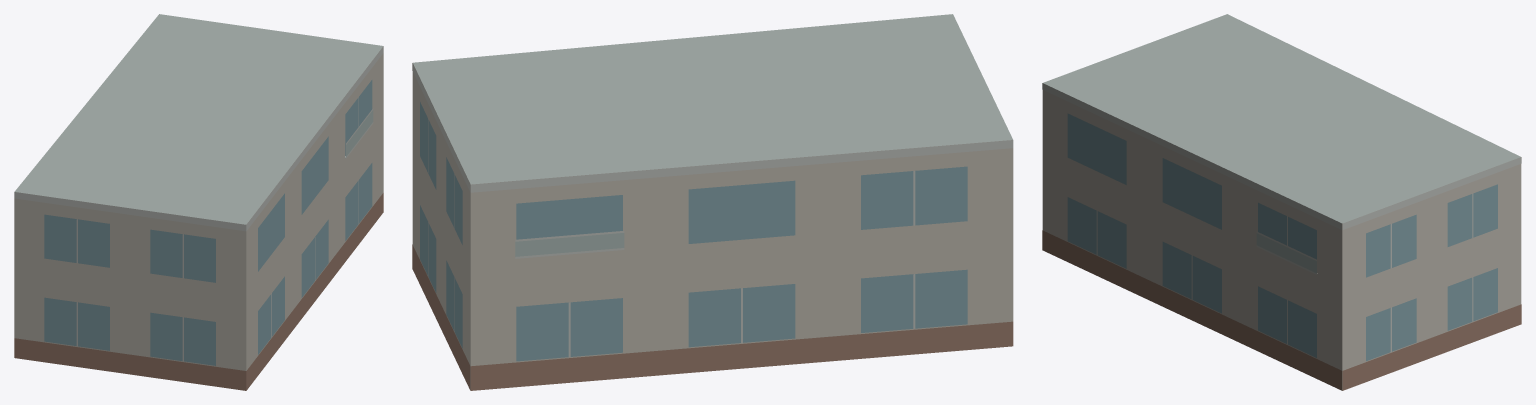
The model's file is survey-upis-32655357.glb.
3 renders of one model, left to right at view 1: azimuth 30°, elevation 25°; view 2: azimuth 150°, elevation 25°; view 3: azimuth 270°, elevation 25°, orthographic. The views are drawn at different scales.
Visible parts, largest first — view 1: survey-upis-32655357.tmp; view 2: survey-upis-32655357.tmp; view 3: survey-upis-32655357.tmp.
Part boxes in pixels (x1=…): survey-upis-32655357.tmp: x1=14, y1=14, x2=383, y2=390; survey-upis-32655357.tmp: x1=412, y1=14, x2=1013, y2=390; survey-upis-32655357.tmp: x1=1042, y1=14, x2=1521, y2=390.
Size of the model in its own units: 16.4 by 6.1 by 15.83.
